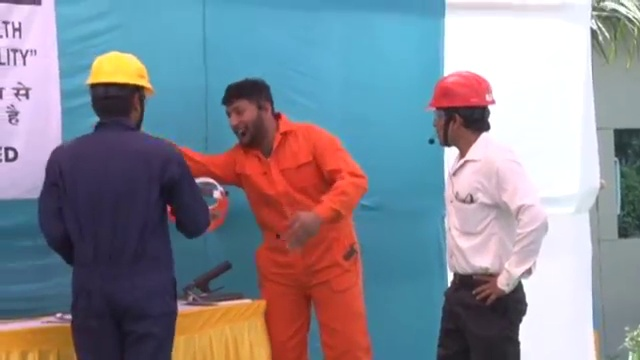helmet: (83, 48, 154, 99), (427, 69, 499, 111)
helmet_off: (221, 78, 279, 144)
helmet_on: (82, 47, 154, 135), (425, 68, 498, 151)
person: (176, 77, 373, 360), (38, 49, 210, 360), (424, 67, 552, 360)
